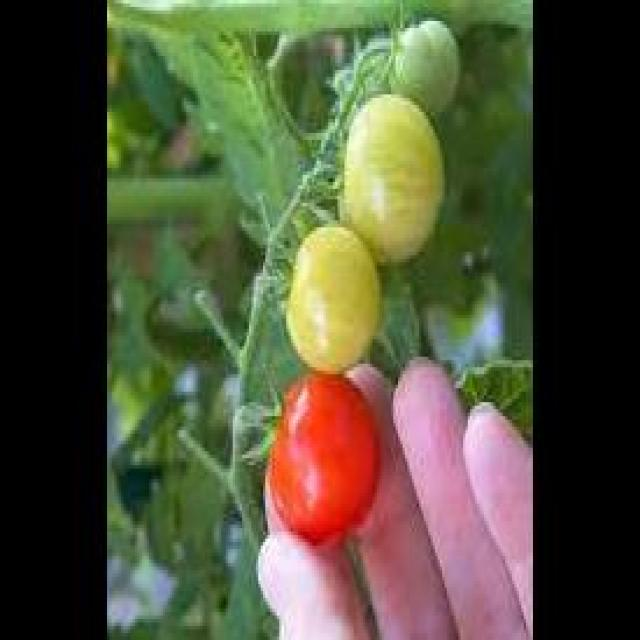Tomato: (268, 370, 385, 552), (343, 94, 442, 268), (282, 226, 380, 373), (393, 20, 467, 112)
